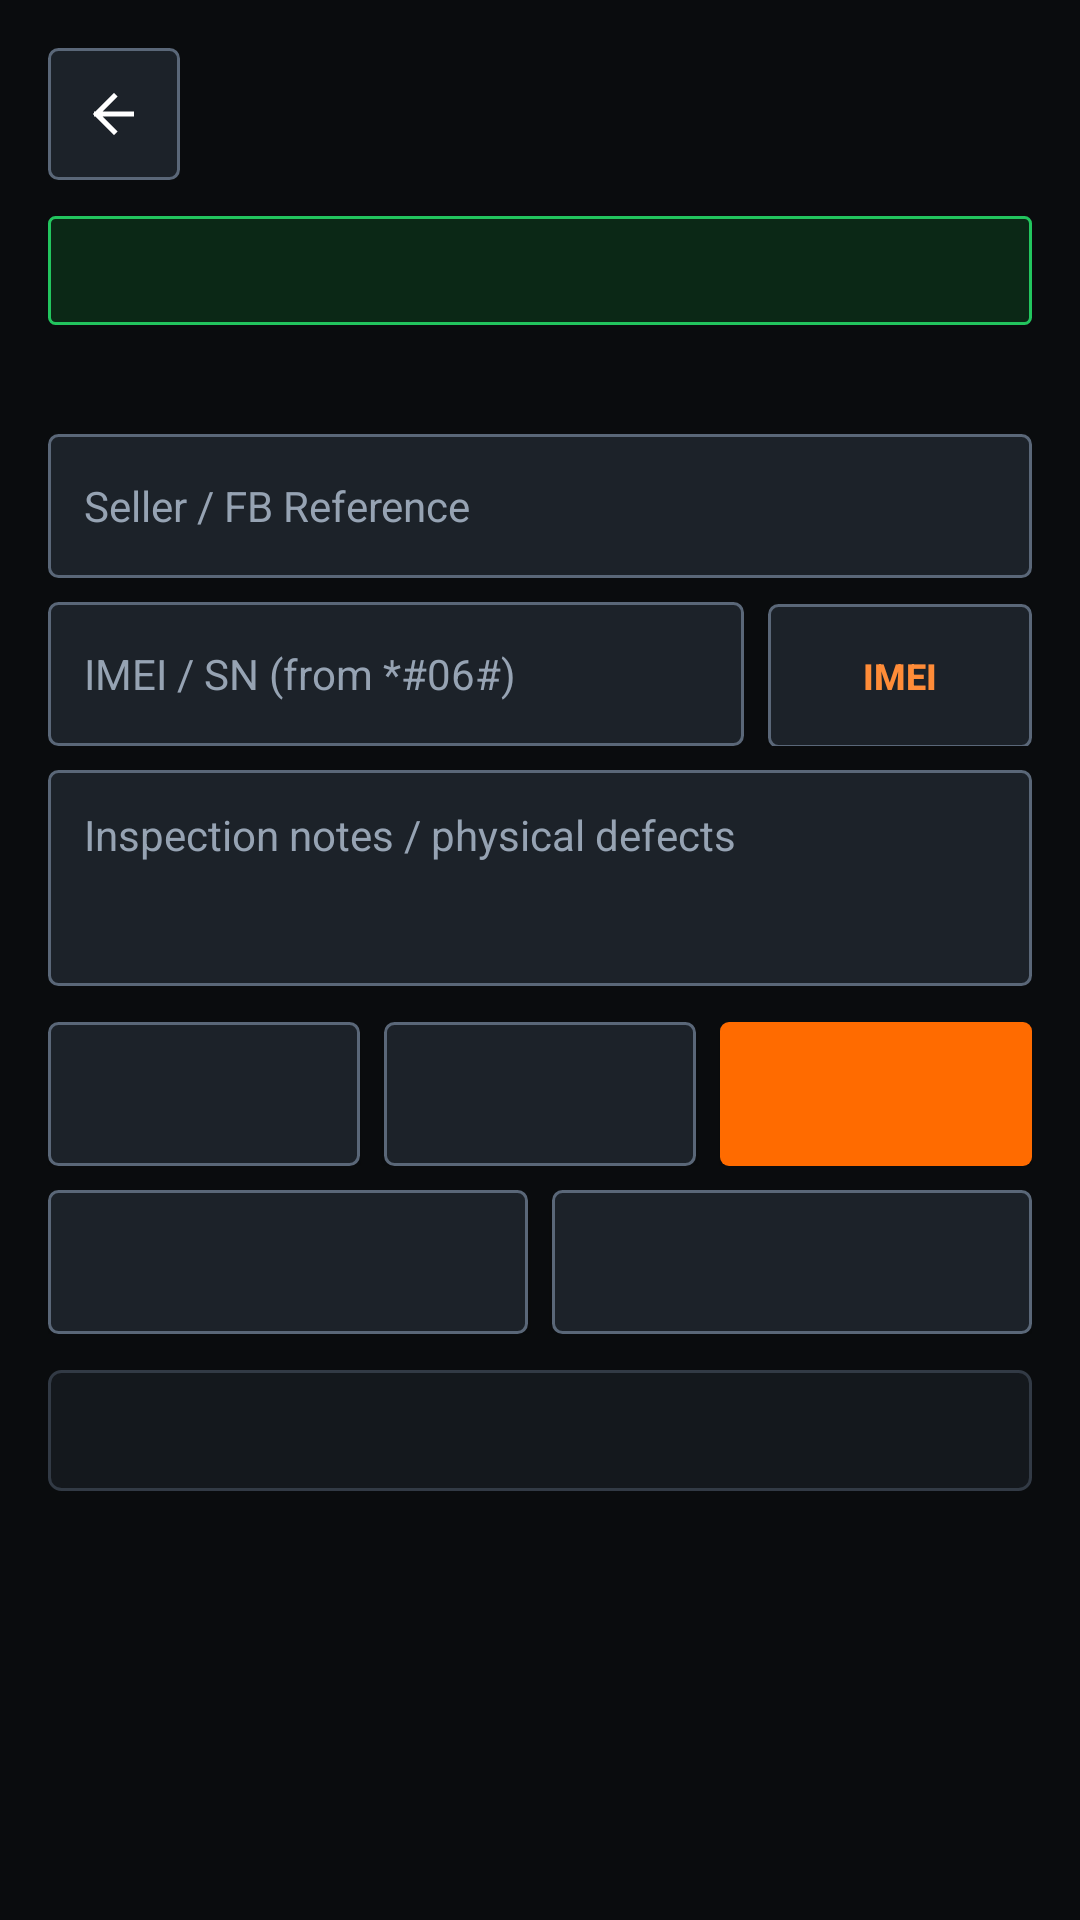

Icons on this 1080w x 1920h Android screen, each with the point to tap as point (x, y):
Back: point (114, 114)
